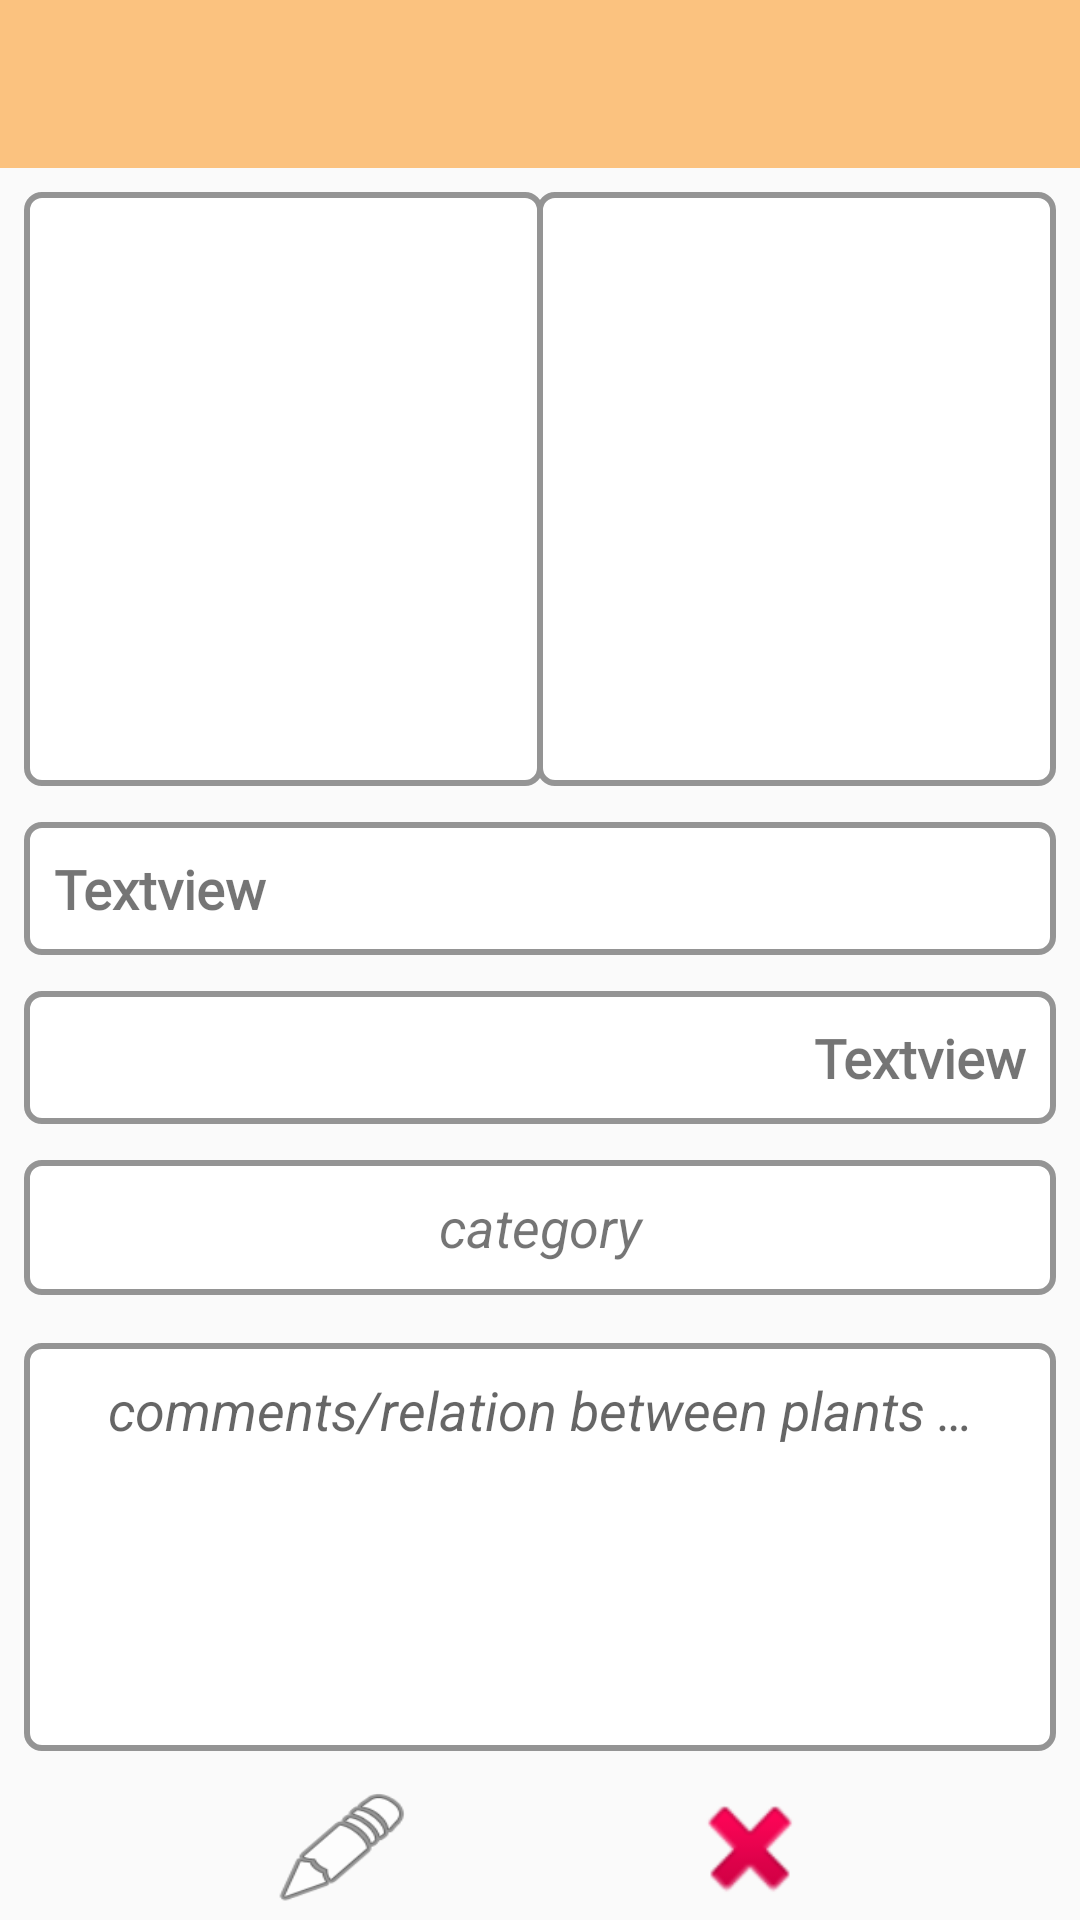

Icons on this 1080 × 1920 Android screen, each with its box as (x1, y1, x2, y2):
delete: (708, 1806, 792, 1891)
edit: (280, 1794, 404, 1901)
